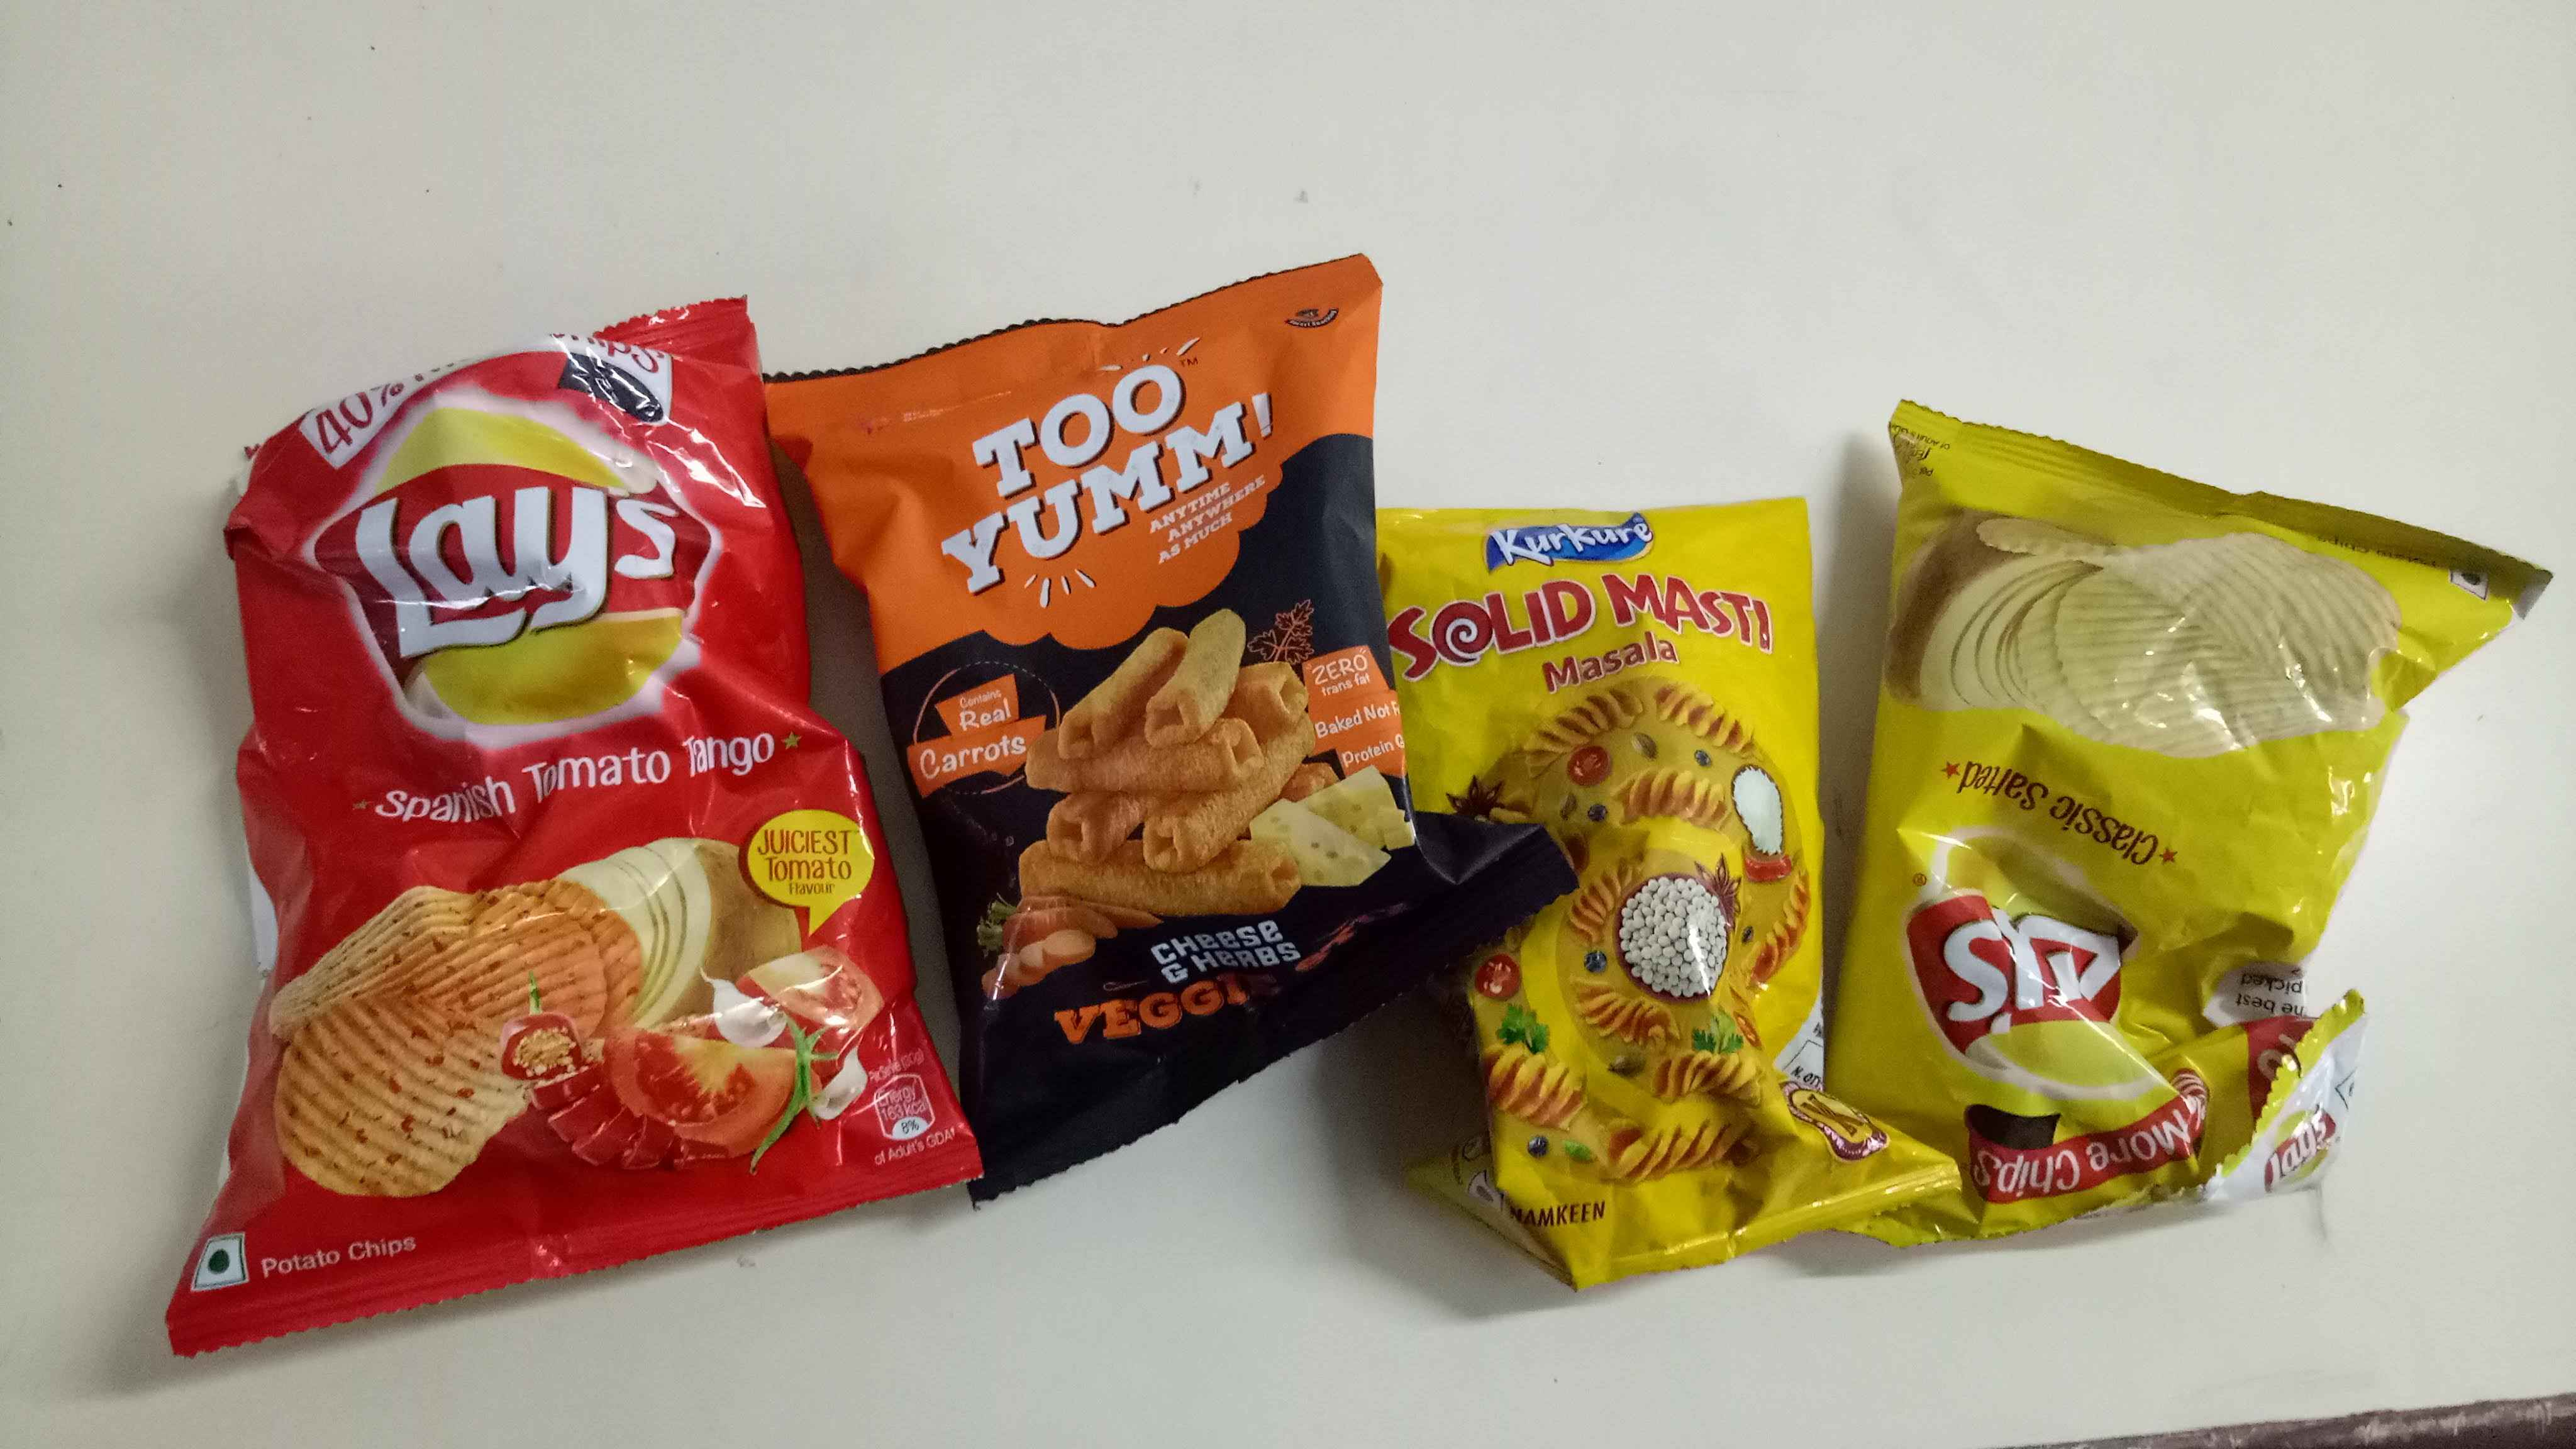Lays: (338, 400, 740, 752), (1916, 842, 2210, 1076)
kurkure: (1486, 520, 1668, 591)
tooyumm: (943, 361, 1304, 625)
